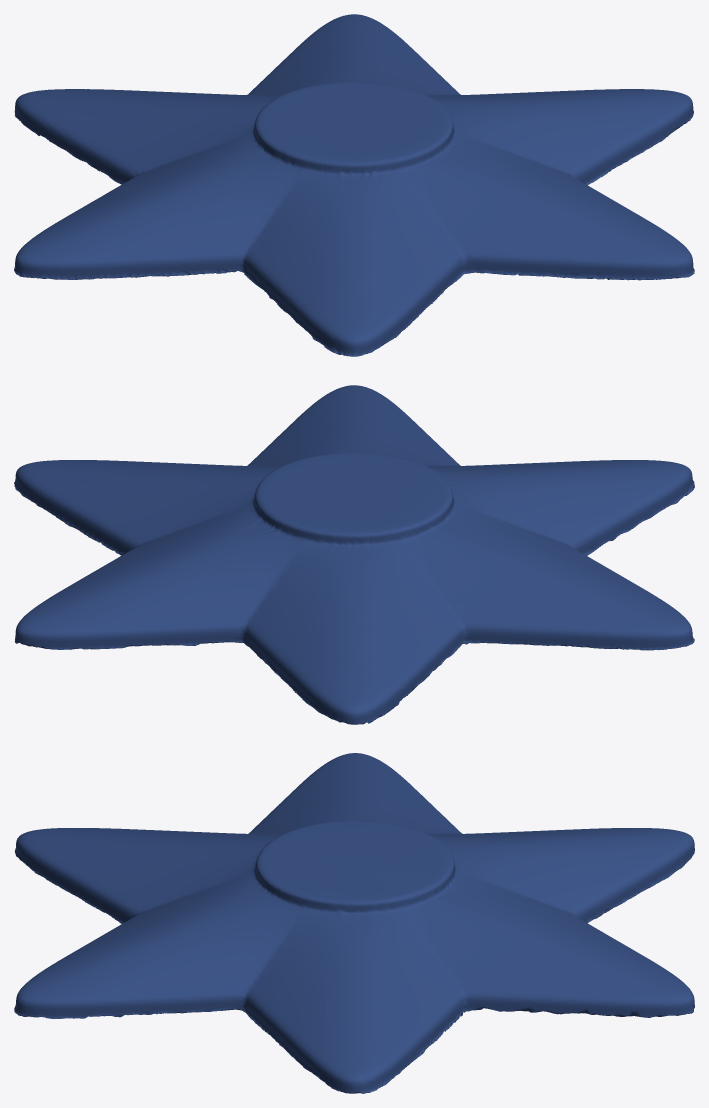
The model's file is decoration-star.glb.
3 renders of one model, top to bottom at view 1: azimuth 30°, elevation 25°; view 2: azimuth 150°, elevation 25°; view 3: azimuth 270°, elevation 25°, orthographic.
Visible parts, largest first — view 1: decoration_star; view 2: decoration_star; view 3: decoration_star.
Boxes of the visible parts, x1,y1,x2,y2 form: decoration_star: [14, 14, 694, 356]; decoration_star: [14, 385, 694, 724]; decoration_star: [14, 753, 694, 1093].
Bounding box in the file's own units: 0.2466 × 0.0247 × 0.215.
